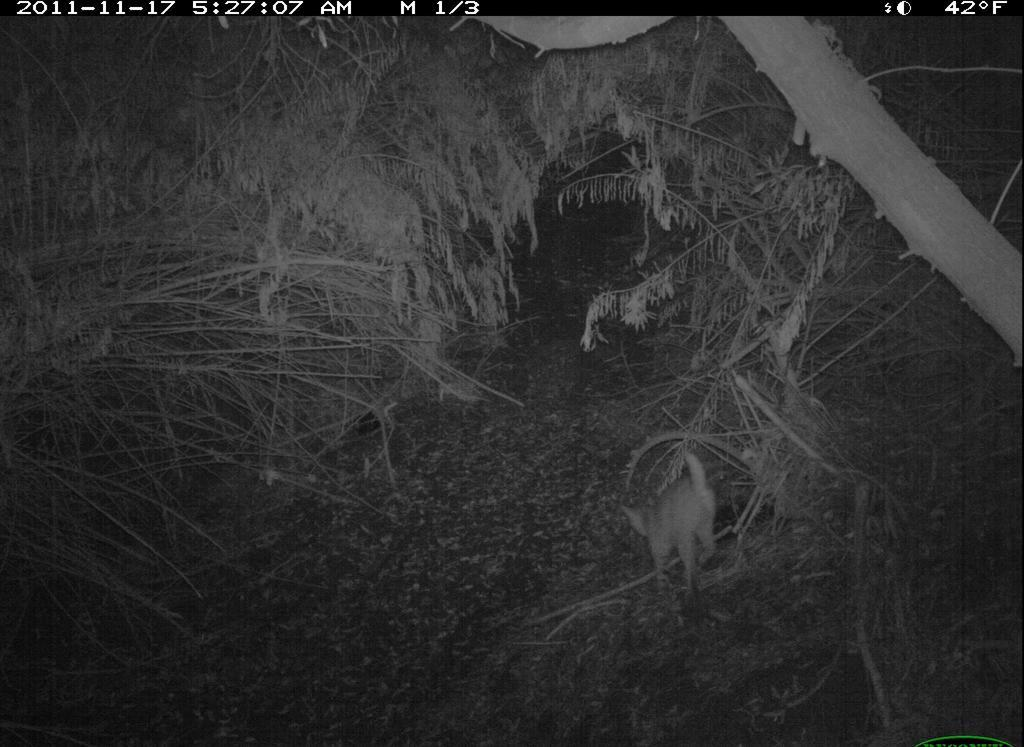bobcat: (606, 427, 740, 609)
